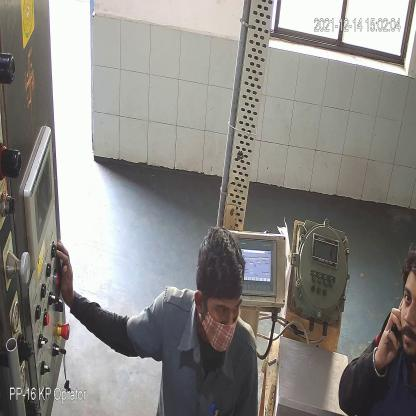no_goggles: (204, 294, 242, 325)
